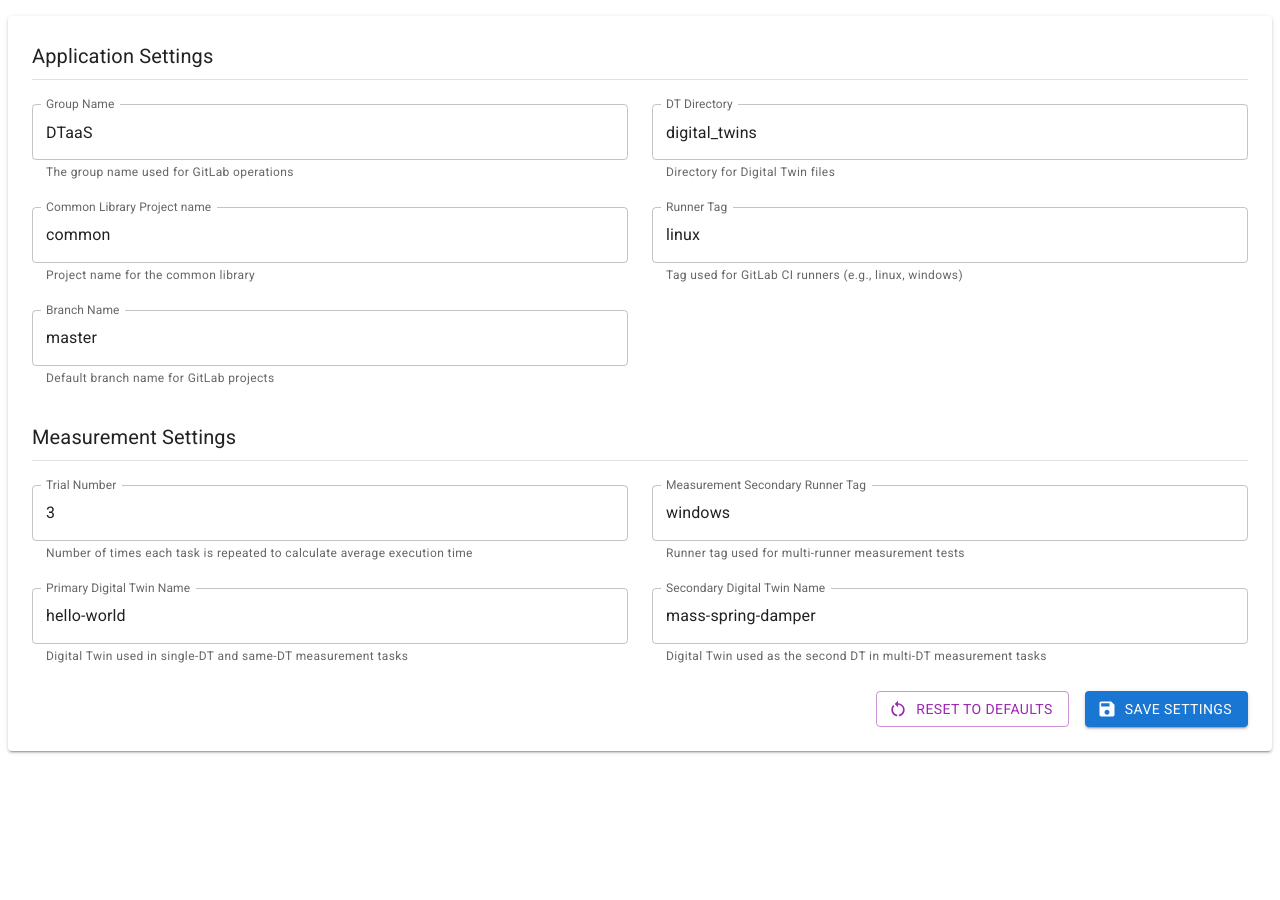
Test: SettingsForm › shows "Settings reset to defaults" message when reset is clicked
Click the button "Reset to Defaults": [973, 709] box [876,690,1069,727]
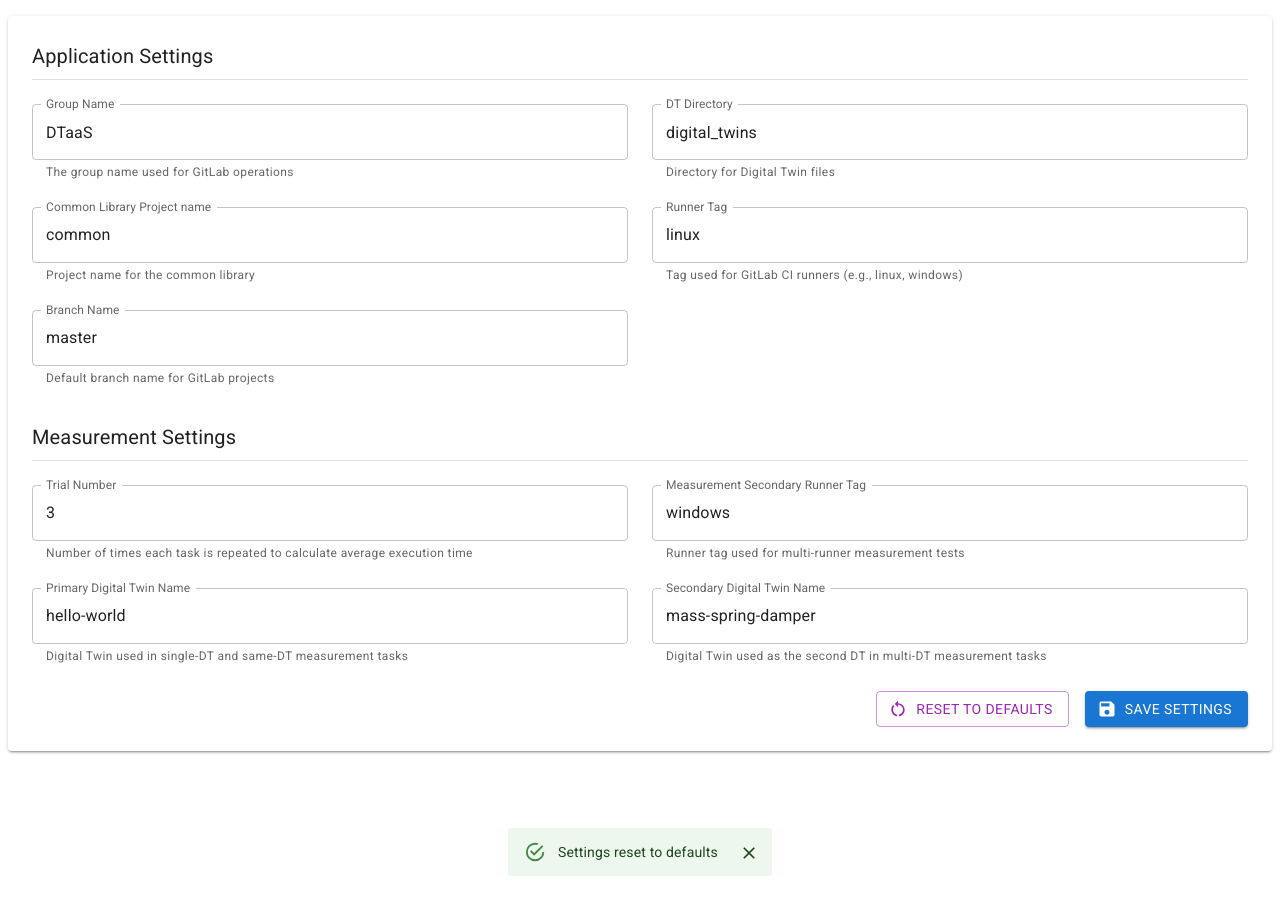
Expected: the text "Settings reset to defaults" is shown, [558,844,718,860]
